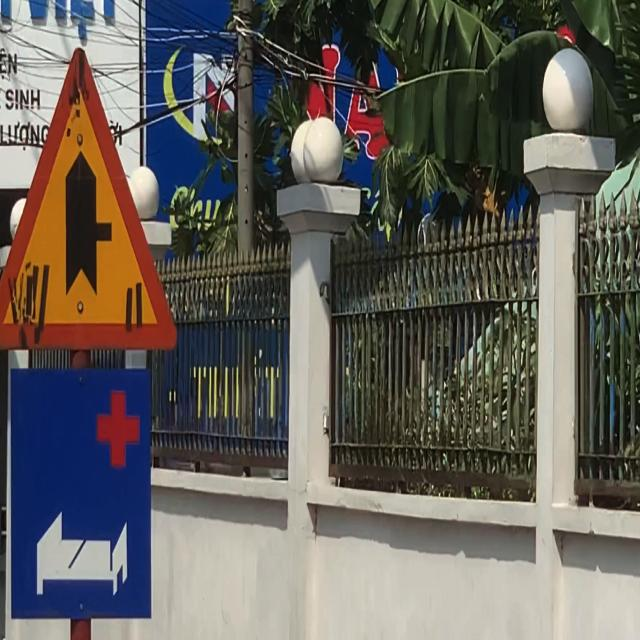Chi dan: (10, 367, 154, 621)
Giao voi duong khong uu tien: (0, 44, 178, 355)
